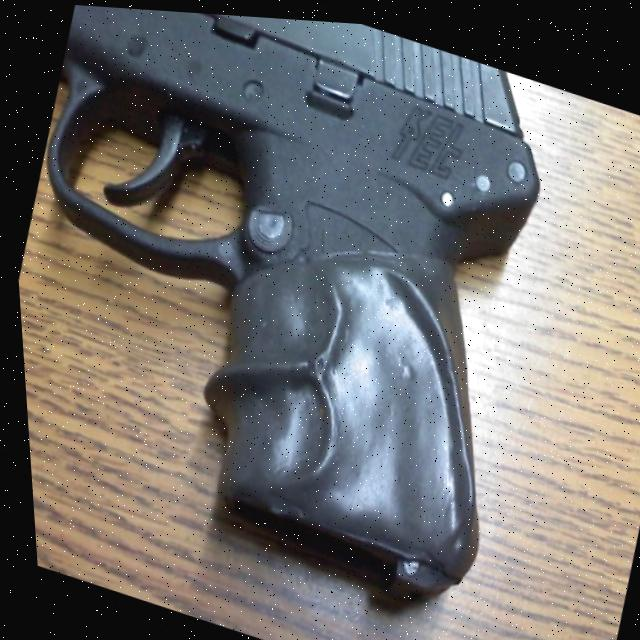pistol: (0, 0, 601, 635)
